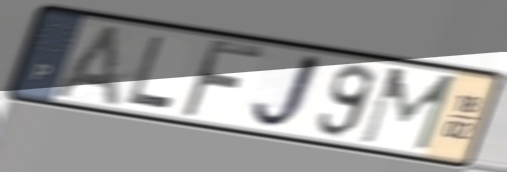9: (314, 62, 375, 139)
A: (46, 22, 123, 111)
F: (176, 36, 267, 121)
J: (247, 50, 327, 133)
L: (124, 33, 177, 112)
M: (355, 65, 460, 154)
